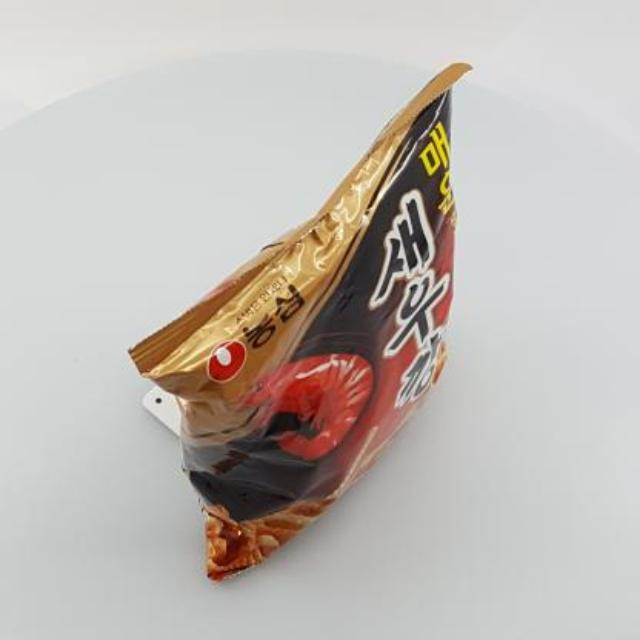snack_bag: (118, 52, 496, 592)
